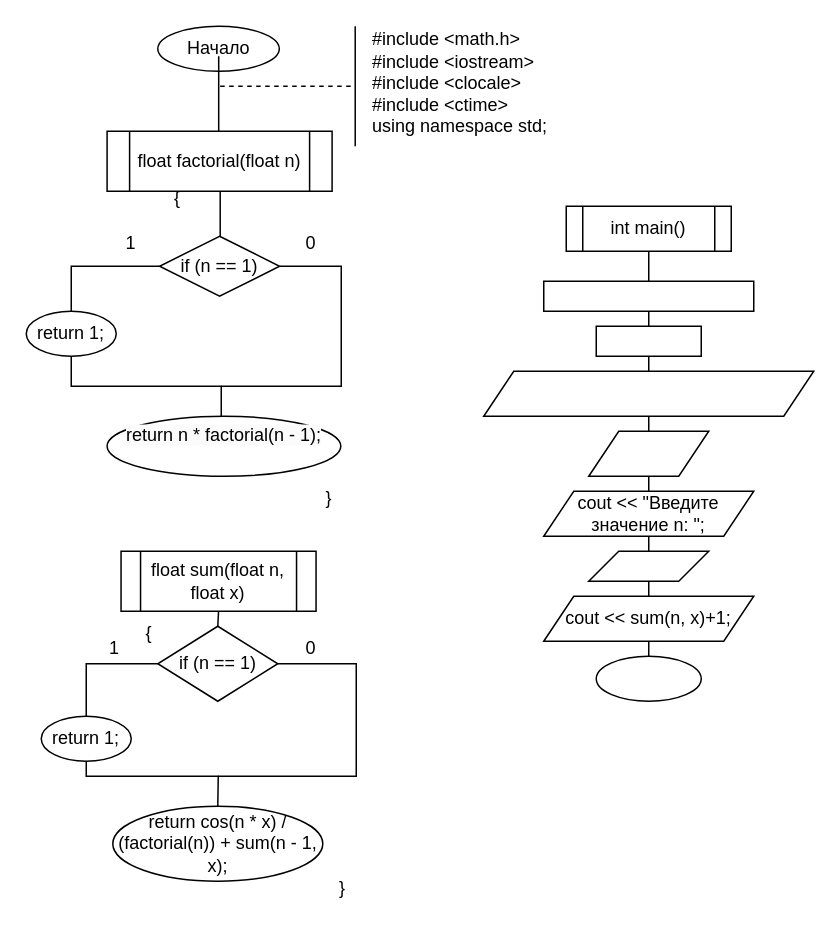
The diagram is 840 pixels wide and 938 high, and some of its shapes have lost their labels. The centre of each missing label's shape, as x and y in pixels:
cin >> n;: (x=648, y=565)
cin >> x;: (x=648, y=453)
cout << "Введите значение x (в радианах): ";: (x=648, y=393)
int n,x;: (x=648, y=340)
return 0;: (x=648, y=678)
setlocale(LC_ALL, "RU");: (x=648, y=295)
